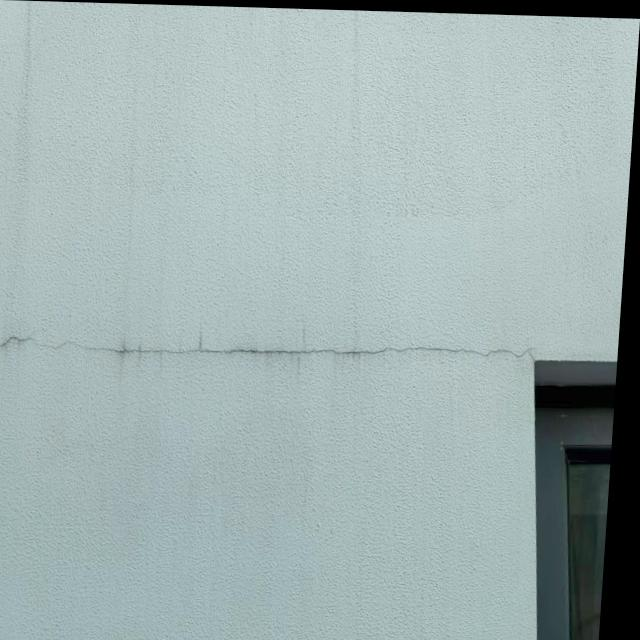crack: (0, 324, 537, 398)
